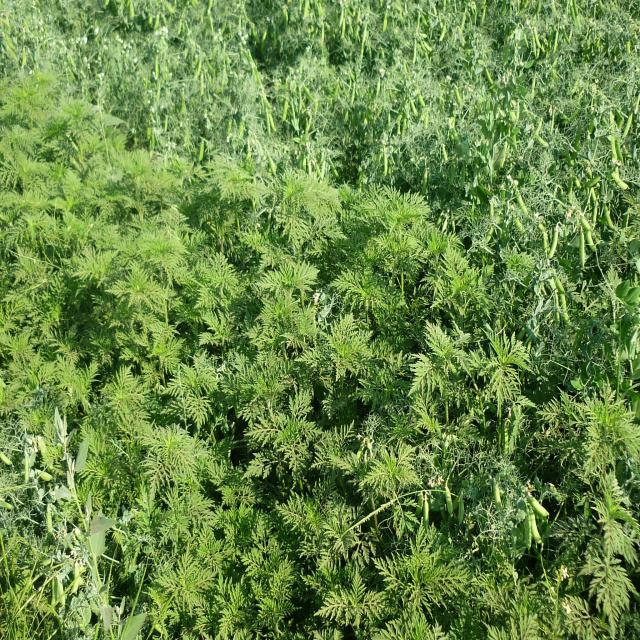ambrosia: (277, 110, 486, 504), (31, 119, 244, 457), (8, 417, 271, 612), (503, 37, 633, 225), (540, 382, 634, 612)
